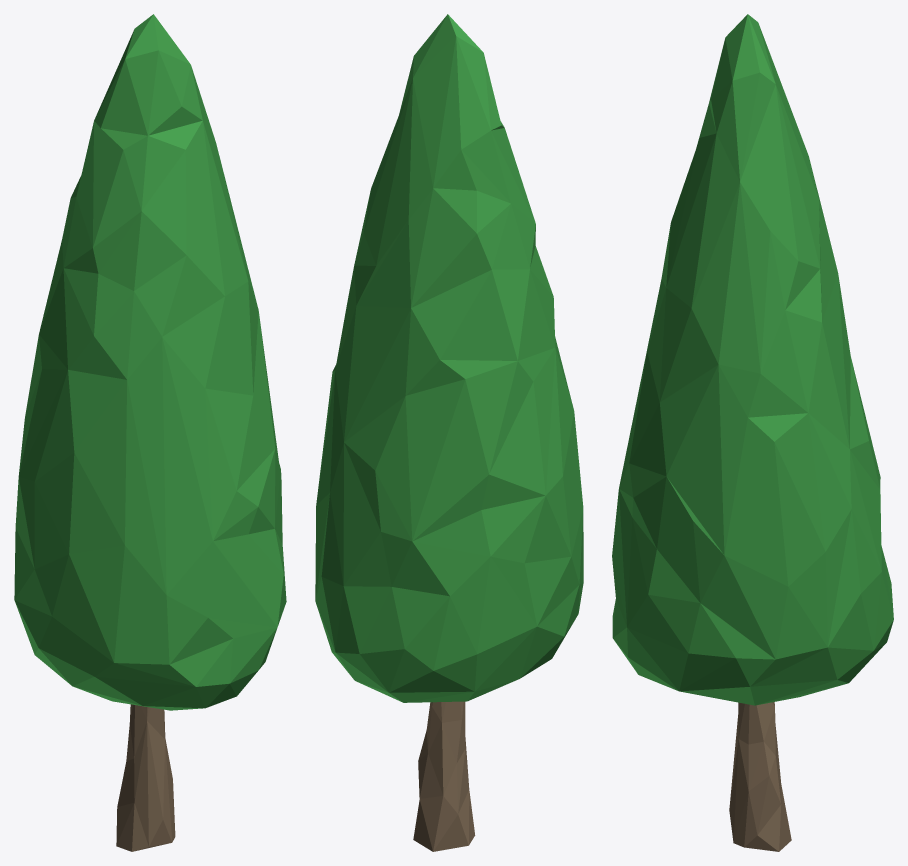
The model's file is pine_j.FBX.
The picture shows the model from 3 angles, left to right: view 1: azimuth 30°, elevation 25°; view 2: azimuth 150°, elevation 25°; view 3: azimuth 270°, elevation 25°; orthographic projection.
Visible parts, largest first — view 1: pine_j; view 2: pine_j; view 3: pine_j.
Part boxes in pixels (x1,y1,x2,y2): pine_j: (14, 14, 286, 851); pine_j: (315, 14, 583, 851); pine_j: (612, 14, 893, 851).
Bounding box in the file's own units: 3.63 × 12.11 × 3.73.
